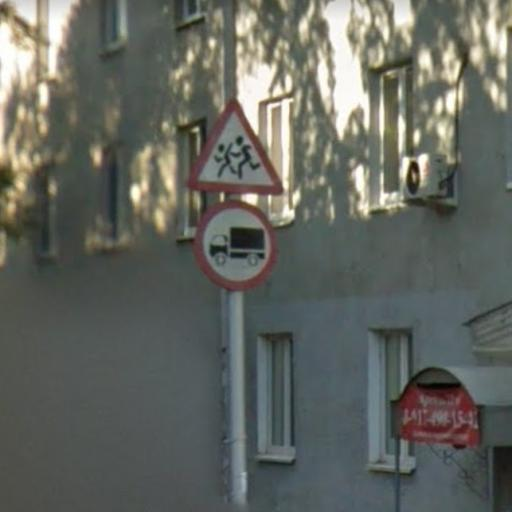traffic_sign: (177, 94, 295, 202), (185, 194, 286, 297)
